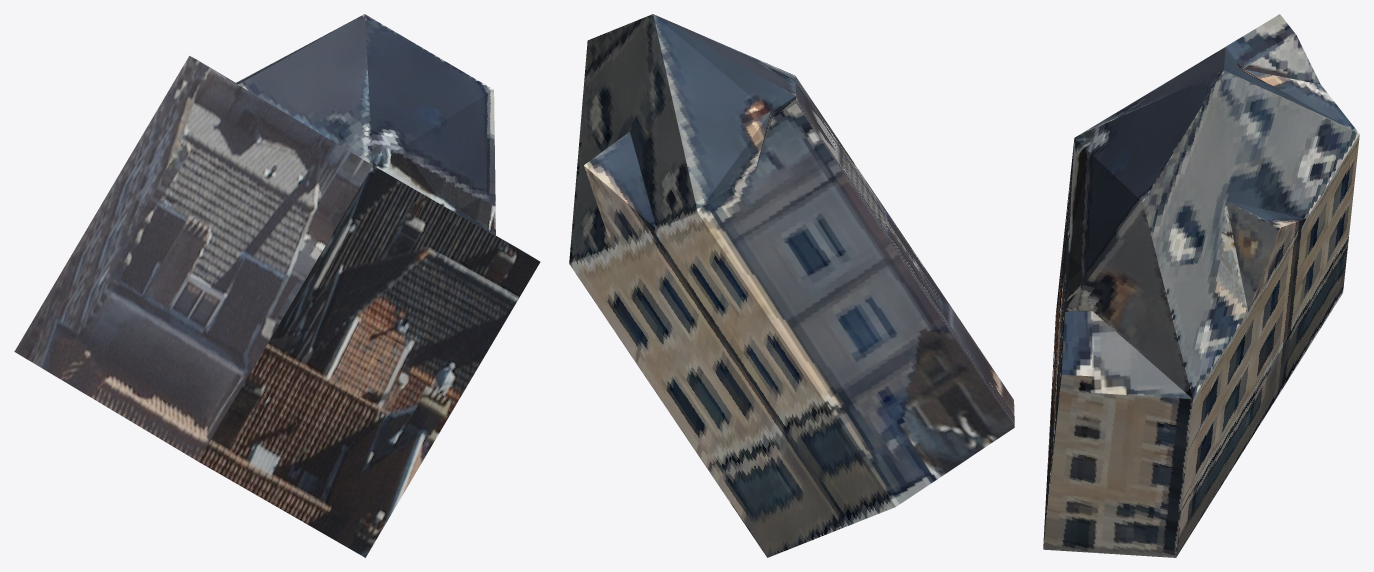
3 renders of one model, left to right at view 1: azimuth 30°, elevation 25°; view 2: azimuth 150°, elevation 25°; view 3: azimuth 270°, elevation 25°, orthographic. The views are drawn at different scales.
Parts seen in each view (by area): view 1: BAG_0599100000671566 (×4); view 2: BAG_0599100000671566 (×6); view 3: BAG_0599100000671566 (×6).
Boxes of the visible parts, x1,y1,x2,y2 form: BAG_0599100000671566 (×4): (14,14,540,557); BAG_0599100000671566 (×6): (569,14,1014,557); BAG_0599100000671566 (×6): (1043,14,1359,557).
Bounding box in the file's own units: 20.11 × 20.77 × 11.22.
Materials: 1 (1 with a texture image).
